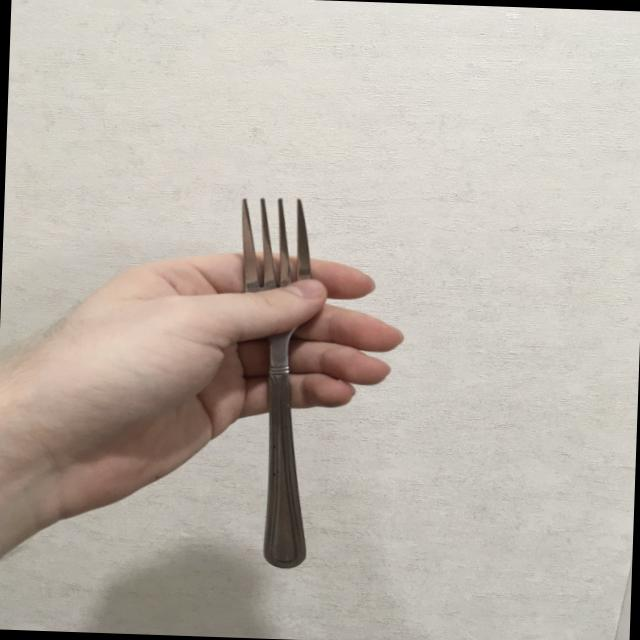fork: (225, 196, 319, 569)
